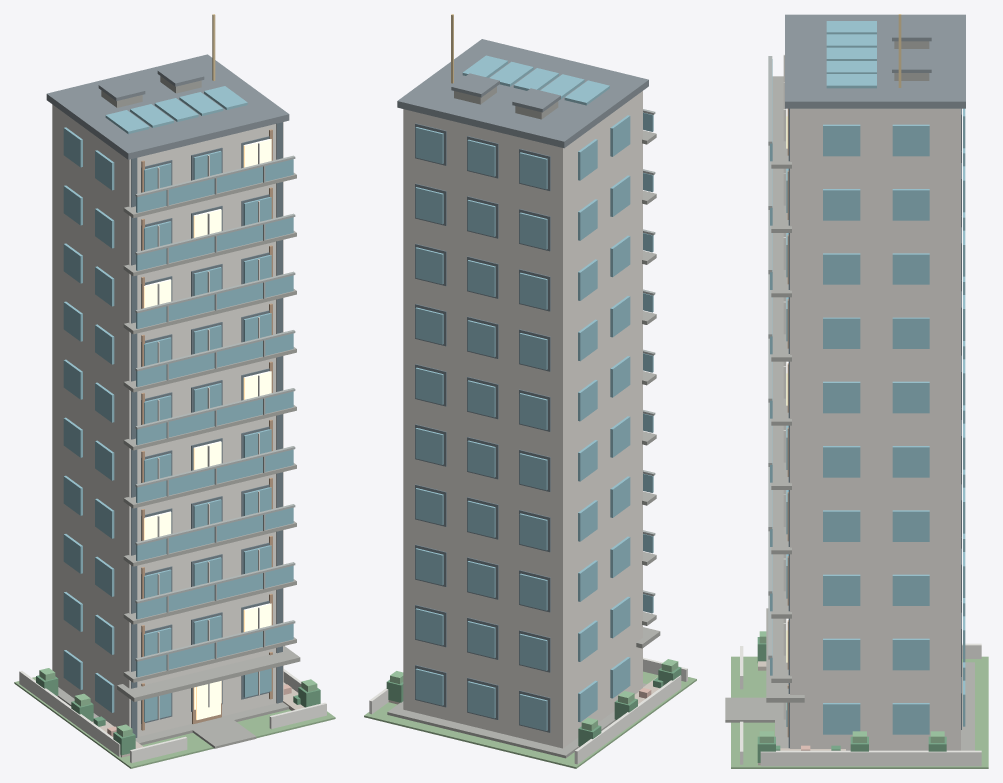
Rendered from building-skyscraper-b.gltf.
The picture shows the model from 3 angles, left to right: view 1: azimuth 30°, elevation 25°; view 2: azimuth 150°, elevation 25°; view 3: azimuth 270°, elevation 25°; orthographic projection. The views are drawn at different scales.
Visible parts, largest first — view 1: Wall, BlueGlass, Stone, DarkRoof, Dark, Metal, WarmWindow, White, Grass, Wood, TreeLeaf, LeafLight; view 2: Wall, BlueGlass, DarkRoof, Dark, Stone, Grass, White, TreeLeaf, LeafLight; view 3: Wall, BlueGlass, DarkRoof, Stone, White, Grass, Metal, Dark, Wood, TreeLeaf, LeafLight.
Part boxes in pixels (x1,y1,x2,y2): Wall: (52,104,283,736); BlueGlass: (63,86,293,721); Stone: (57,76,300,748); DarkRoof: (46,54,289,159); Dark: (131,122,282,737); Metal: (135,155,295,670); WarmWindow: (144,139,271,719); White: (19,143,326,763); Grass: (14,677,335,768); Wood: (141,129,272,730); TreeLeaf: (36,675,320,755); LeafLight: (39,668,317,737); Wall: (403,91,642,748); BlueGlass: (415,55,653,730); DarkRoof: (397,39,648,148); Dark: (415,123,550,732); Stone: (387,86,660,758); Grass: (364,671,696,768); White: (369,657,687,764); TreeLeaf: (386,667,681,746); LeafLight: (390,659,678,730); Wall: (790,108,960,750); BlueGlass: (770,21,965,734); DarkRoof: (785,14,965,108); Stone: (725,41,974,750); White: (740,54,981,766); Grass: (731,656,988,768); Metal: (768,56,772,659); Dark: (788,108,961,748); Wood: (787,108,788,737); TreeLeaf: (757,637,946,762); LeafLight: (759,631,944,742).
Bounding box in the file's own units: 10.4 × 32.03 × 10.47.
